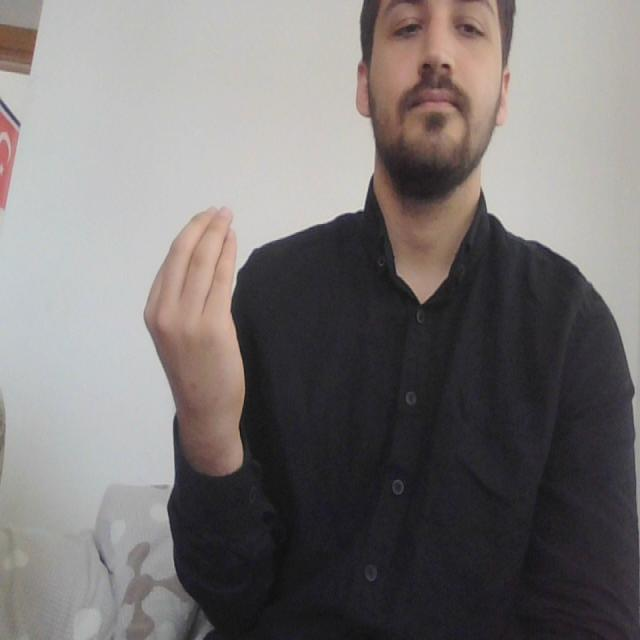iyi: (142, 197, 243, 345)
